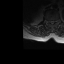CCS_normal: (51, 19, 53, 25)
LFS_stenosis: (54, 19, 56, 23)
LLS_normal: (53, 19, 54, 24)
RFS_stenosis: (48, 19, 50, 24)
RLS_normal: (50, 19, 51, 24)
